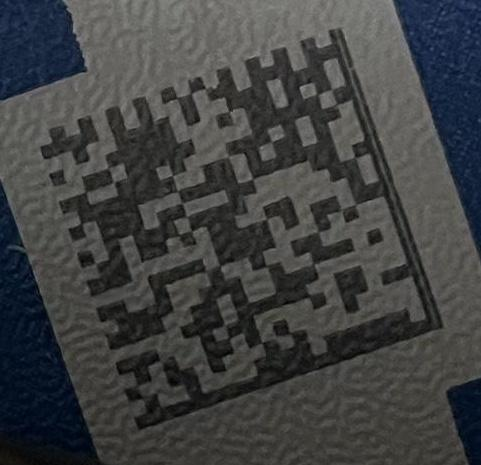datamatrix: (39, 26, 445, 429)
